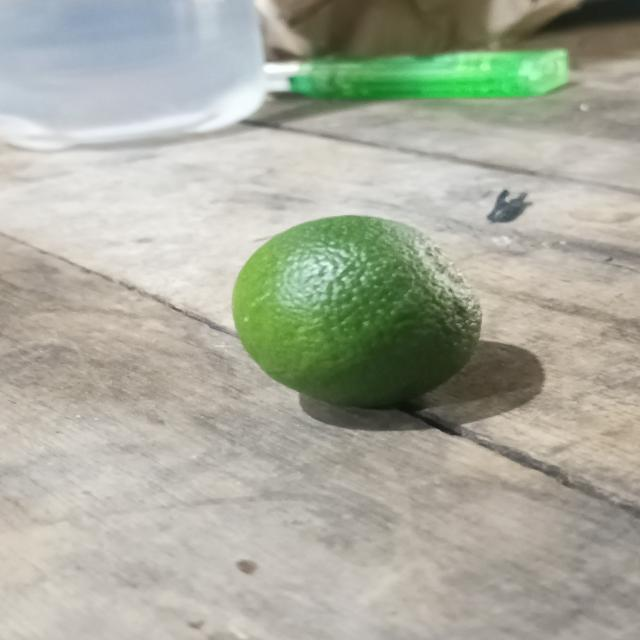heathy: (231, 212, 479, 404)
